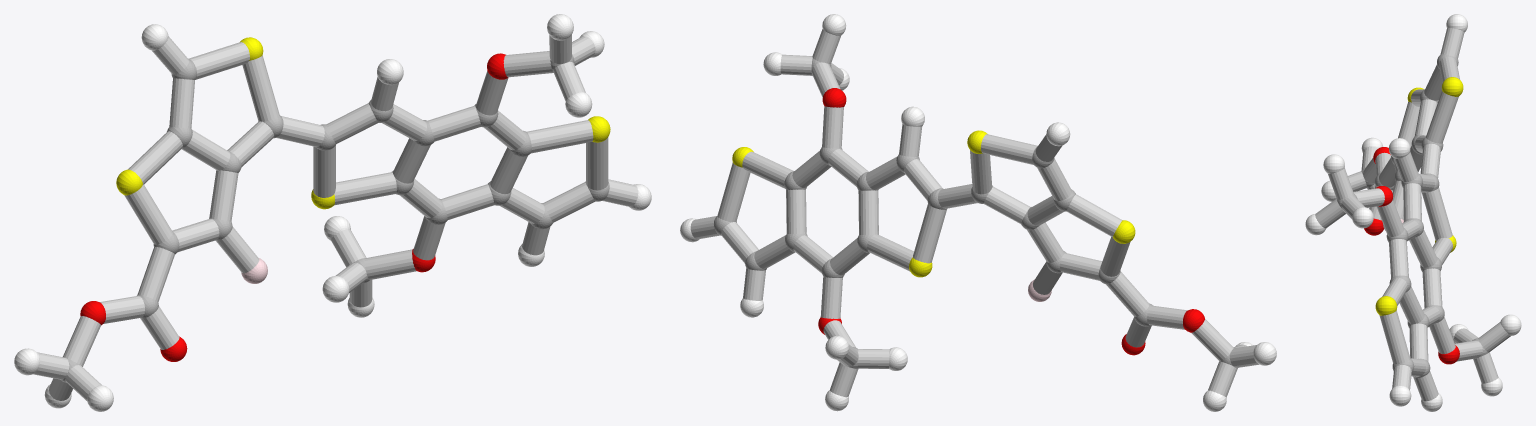
The model's file is color.glb.
3 views of the same model, side by side, from view 1: azimuth 30°, elevation 25°; view 2: azimuth 150°, elevation 25°; view 3: azimuth 270°, elevation 25° (orthographic). The views are drawn at different scales.
Parts seen in each view (by area): view 1: grp15205, grp8689, grp1, grp7241, grp13395; view 2: grp15205, grp8689, grp1, grp7241, grp13395; view 3: grp15205, grp8689, grp1, grp7241, grp13395.
Boxes of the visible parts, x1,y1,x2,y2 form: grp15205: [33, 35, 638, 400]; grp8689: [14, 14, 651, 411]; grp1: [60, 54, 609, 382]; grp7241: [116, 37, 610, 209]; grp13395: [80, 53, 507, 361]; grp15205: [690, 29, 1259, 397]; grp8689: [680, 14, 1276, 411]; grp1: [714, 58, 1238, 368]; grp7241: [732, 130, 1135, 277]; grp13395: [818, 88, 1204, 355]; grp15205: [1315, 28, 1510, 401]; grp8689: [1305, 14, 1521, 411]; grp1: [1337, 54, 1488, 377]; grp7241: [1375, 77, 1463, 315]; grp13395: [1364, 147, 1459, 364].
Size of the model in its own units: 16.73 by 8.9 by 5.98.
